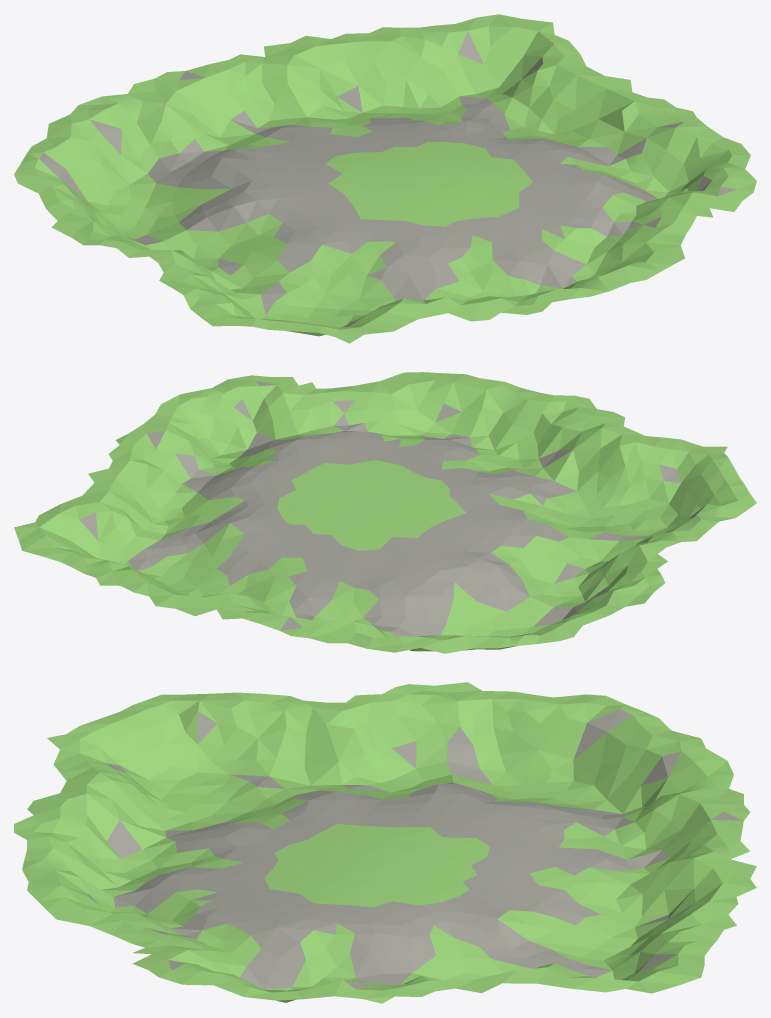
File: CampfireTerrain.fbx
The picture shows the model from 3 angles, top to bottom: view 1: azimuth 30°, elevation 25°; view 2: azimuth 150°, elevation 25°; view 3: azimuth 270°, elevation 25°; orthographic projection. The views are drawn at different scales.
Parts seen in each view (by area): view 1: CPT_Mountain_L_b_20; view 2: CPT_Mountain_L_b_20; view 3: CPT_Mountain_L_b_20.
Boxes of the visible parts, x1=… form: CPT_Mountain_L_b_20: x1=14, y1=14, x2=756, y2=343; CPT_Mountain_L_b_20: x1=14, y1=372, x2=756, y2=653; CPT_Mountain_L_b_20: x1=14, y1=682, x2=756, y2=1003.
Bounding box in the file's own units: 8986 × 692 × 8826.
